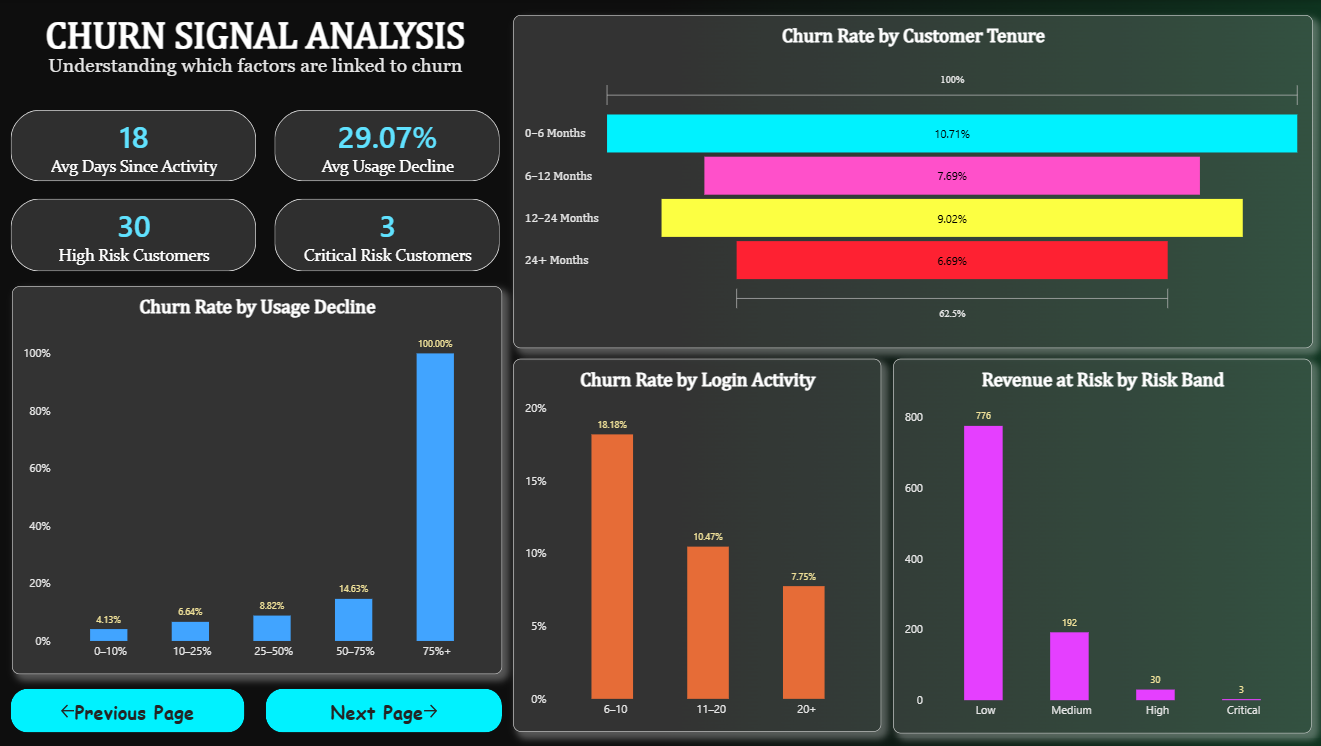

Layout of this report page (visuals, bound fields, positions):
{"tool":"powerbi","page":{"name":"Churn Signals","canvas":[1920,1080],"ordinal":1},"visuals":[{"type":"shape","title":"CHURN SIGNAL ANALYSIS  ","box":[0,21.1,747.8,100],"z":0},{"type":"clusteredColumnChart","title":"Churn Rate by Usage Decline","fields":{"Category":["Usage_Data.Usage Decline Band"],"Y":["Subscription_Data.Churn Rate"]},"box":[21.1,415.2,709.3,561.3],"z":1000},{"type":"funnel","title":"Churn Rate by Customer Tenure","fields":{"Category":["Subscription_Data.Tenure Band"],"Y":["Subscription_Data.Churn Rate"]},"box":[747.8,21.1,1157.2,482.5],"z":2000},{"type":"columnChart","title":"Churn Rate by Login Activity","fields":{"Category":["Usage_Data.Login Activity Band"],"Y":["Subscription_Data.Churn Rate"]},"box":[747.8,519,532.5,540.2],"z":3000},{"type":"clusteredColumnChart","title":"Revenue at Risk by Risk Band","fields":{"Category":["Intervention_Data.Risk_Band"],"Y":["Sum(Intervention_Data.Expected_Revenue_Impact_INR)"]},"box":[1297.6,519,605.5,542.1],"z":4000},{"type":"cardVisual","fields":{"Data":["Usage_Data.Avg Usage Decline %"]},"box":[401.8,159.6,326.8,103.8],"z":5000},{"type":"cardVisual","fields":{"Data":["Usage_Data.Avg Days Since Activity"]},"box":[19.2,159.6,355.6,103.8],"z":6000},{"type":"cardVisual","fields":{"Data":["Intervention_Data.High Risk Test"]},"box":[401.8,288.3,326.8,105.7],"z":7000},{"type":"cardVisual","fields":{"Data":["Intervention_Data.High Risk Customers"]},"box":[19.2,288.3,355.6,105.7],"z":8000},{"type":"actionButton","box":[19.2,997.7,338.3,63.4],"z":9000},{"type":"actionButton","box":[388.3,997.7,342,63.3],"z":10000}]}

Visuals, with their boxes in screenshot pixels (x1, y1, x2, y2), scaled from the page's 1920x1080 canvas onto the 1321x746 screenshot:
"CHURN SIGNAL ANALYSIS  " shape: l=0, t=15, r=515, b=84
"Churn Rate by Usage Decline" clusteredColumnChart: l=15, t=287, r=503, b=675
"Churn Rate by Customer Tenure" funnel: l=515, t=15, r=1311, b=348
"Churn Rate by Login Activity" columnChart: l=515, t=358, r=881, b=732
"Revenue at Risk by Risk Band" clusteredColumnChart: l=893, t=358, r=1309, b=733
cardVisual - Usage_Data.Avg Usage Decline %: l=276, t=110, r=501, b=182
cardVisual - Usage_Data.Avg Days Since Activity: l=13, t=110, r=258, b=182
cardVisual - Intervention_Data.High Risk Test: l=276, t=199, r=501, b=272
cardVisual - Intervention_Data.High Risk Customers: l=13, t=199, r=258, b=272
actionButton: l=13, t=689, r=246, b=733
actionButton: l=267, t=689, r=502, b=733
